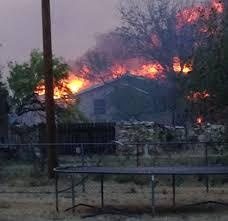fire: (35, 69, 89, 99)
